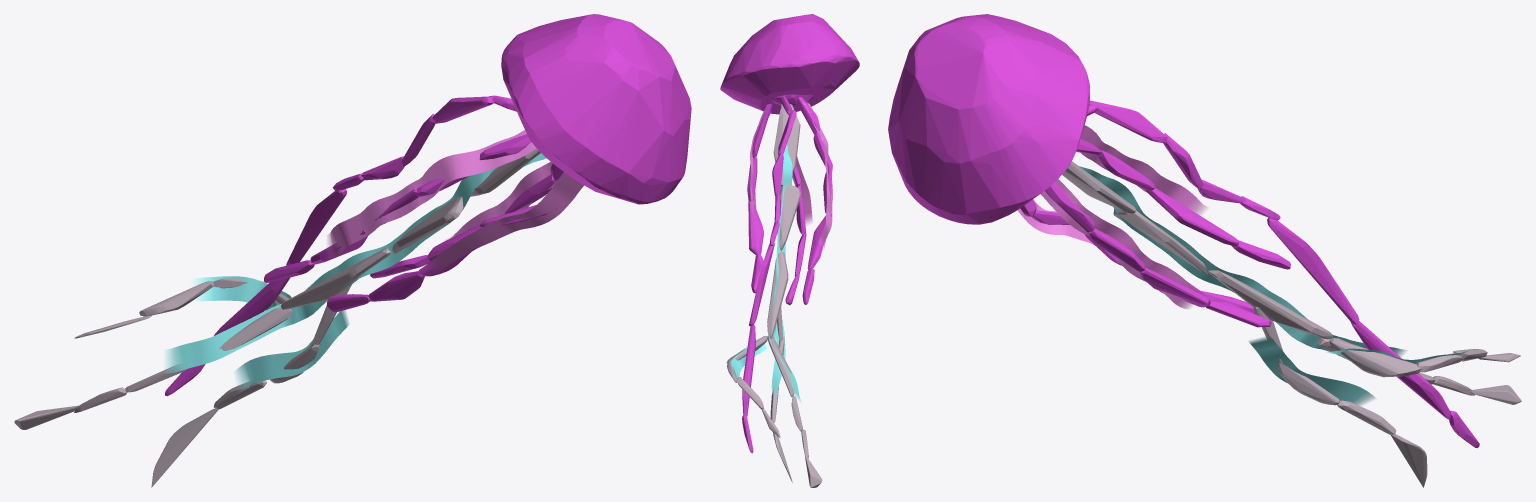
3 renders of one model, left to right at view 1: azimuth 30°, elevation 25°; view 2: azimuth 150°, elevation 25°; view 3: azimuth 270°, elevation 25°, orthographic. The views are drawn at different scales.
Parts seen in each view (by area): view 1: brush_DiamondHull_g1_b0, brush_Streamers_g1_b0; view 2: brush_DiamondHull_g1_b0, brush_Streamers_g1_b0; view 3: brush_DiamondHull_g1_b0, brush_Streamers_g1_b0.
Part boxes in pixels (x1,y1,x2,y2): brush_DiamondHull_g1_b0: (14, 14, 691, 487); brush_Streamers_g1_b0: (165, 130, 583, 391); brush_DiamondHull_g1_b0: (720, 14, 859, 487); brush_Streamers_g1_b0: (731, 102, 832, 402); brush_DiamondHull_g1_b0: (888, 14, 1521, 487); brush_Streamers_g1_b0: (1017, 125, 1468, 405).
Bounding box in the file's own units: 0.5524 × 0.7396 × 0.7481.
